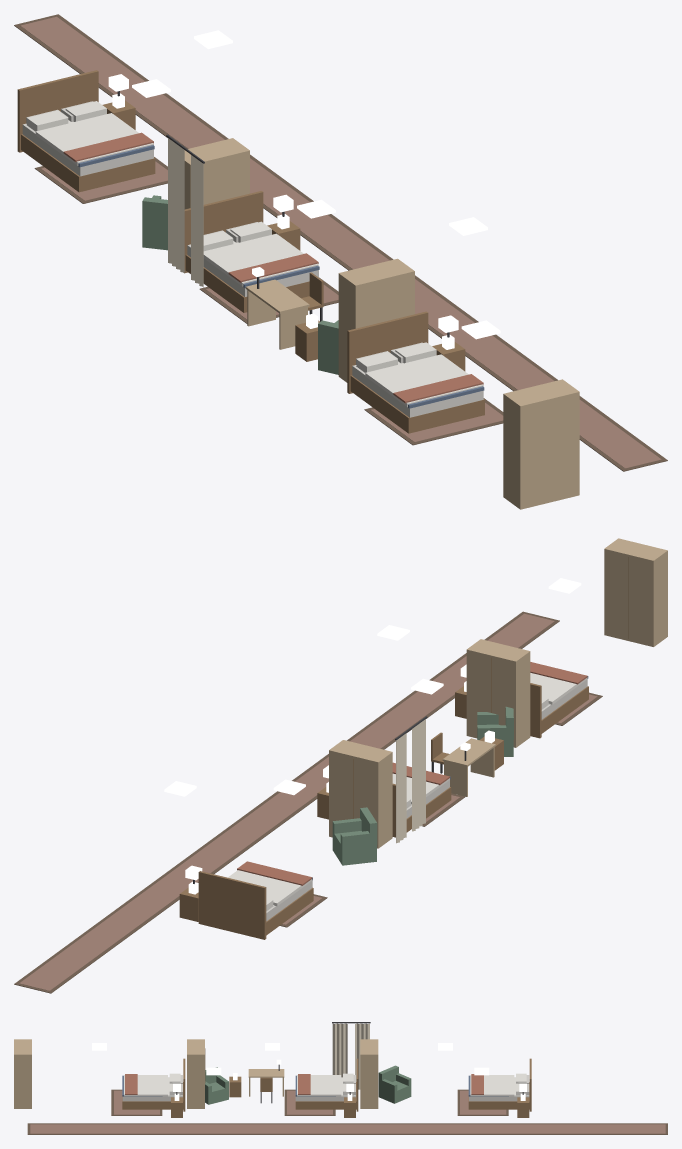
File: fine-s3.glb
The picture shows the model from 3 angles, top to bottom: view 1: azimuth 30°, elevation 25°; view 2: azimuth 150°, elevation 25°; view 3: azimuth 270°, elevation 25°; orthographic projection. The views are drawn at different scales.
Visible parts, largest first — view 1: soft-s3, dresser.008, bed-frame.006, bed-frame.008, dresser.007, bed-frame.007, dresser.006, writing-desk.002, lounge-chair.004, lounge-chair.005, side-table.002; view 2: soft-s3, dresser.008, dresser.007, dresser.006, bed-frame.006, lounge-chair.004, writing-desk.002, bed-frame.008, lounge-chair.005, bed-frame.007, nightstand.006; view 3: soft-s3, dresser.006, dresser.007, dresser.008, bed-frame.006, lounge-chair.004, bed-frame.008, bed-frame.007, lounge-chair.005, writing-desk.002, side-table.002, nightstand.006 (+3 smaller).
Boxes of the visible parts, x1=… form: soft-s3: x1=14, y1=14, x2=667, y2=471; dresser.008: x1=503, y1=379, x2=579, y2=509; bed-frame.006: x1=17, y1=70, x2=155, y2=192; bed-frame.008: x1=347, y1=311, x2=484, y2=433; dresser.007: x1=338, y1=258, x2=414, y2=382; bed-frame.007: x1=184, y1=191, x2=319, y2=312; dresser.006: x1=184, y1=138, x2=249, y2=209; writing-desk.002: x1=245, y1=267, x2=309, y2=349; lounge-chair.004: x1=142, y1=195, x2=167, y2=250; lounge-chair.005: x1=318, y1=320, x2=338, y2=374; side-table.002: x1=295, y1=313, x2=319, y2=361; soft-s3: x1=14, y1=611, x2=602, y2=993; dresser.008: x1=604, y1=538, x2=667, y2=646; dresser.007: x1=466, y1=639, x2=530, y2=747; dresser.006: x1=329, y1=740, x2=392, y2=848; bed-frame.006: x1=198, y1=871, x2=313, y2=939; lounge-chair.004: x1=332, y1=807, x2=377, y2=865; writing-desk.002: x1=442, y1=738, x2=495, y2=796; bed-frame.008: x1=530, y1=676, x2=588, y2=738; lounge-chair.005: x1=477, y1=706, x2=513, y2=756; bed-frame.007: x1=392, y1=776, x2=451, y2=838; nightstand.006: x1=179, y1=881, x2=198, y2=921; soft-s3: x1=27, y1=1022, x2=667, y2=1134; dresser.006: x1=360, y1=1039, x2=378, y2=1108; dresser.007: x1=187, y1=1039, x2=205, y2=1108; dresser.008: x1=14, y1=1039, x2=31, y2=1108; bed-frame.006: x1=468, y1=1058, x2=531, y2=1111; lounge-chair.004: x1=378, y1=1065, x2=411, y2=1103; bed-frame.008: x1=122, y1=1058, x2=185, y2=1111; bed-frame.007: x1=295, y1=1058, x2=358, y2=1111; lounge-chair.005: x1=205, y1=1067, x2=228, y2=1104; writing-desk.002: x1=248, y1=1059, x2=284, y2=1096; side-table.002: x1=229, y1=1073, x2=241, y2=1097; nightstand.006: x1=517, y1=1093, x2=529, y2=1117.
Size of the model in its own units: 3.6 by 2.51 by 21.82.
